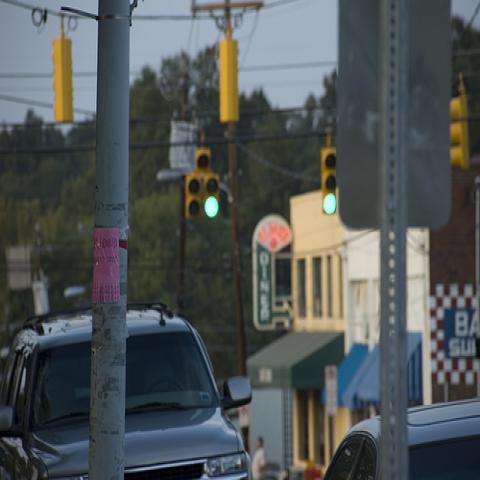car: (0, 304, 258, 479), (322, 396, 480, 480)
truck: (1, 306, 251, 475)
